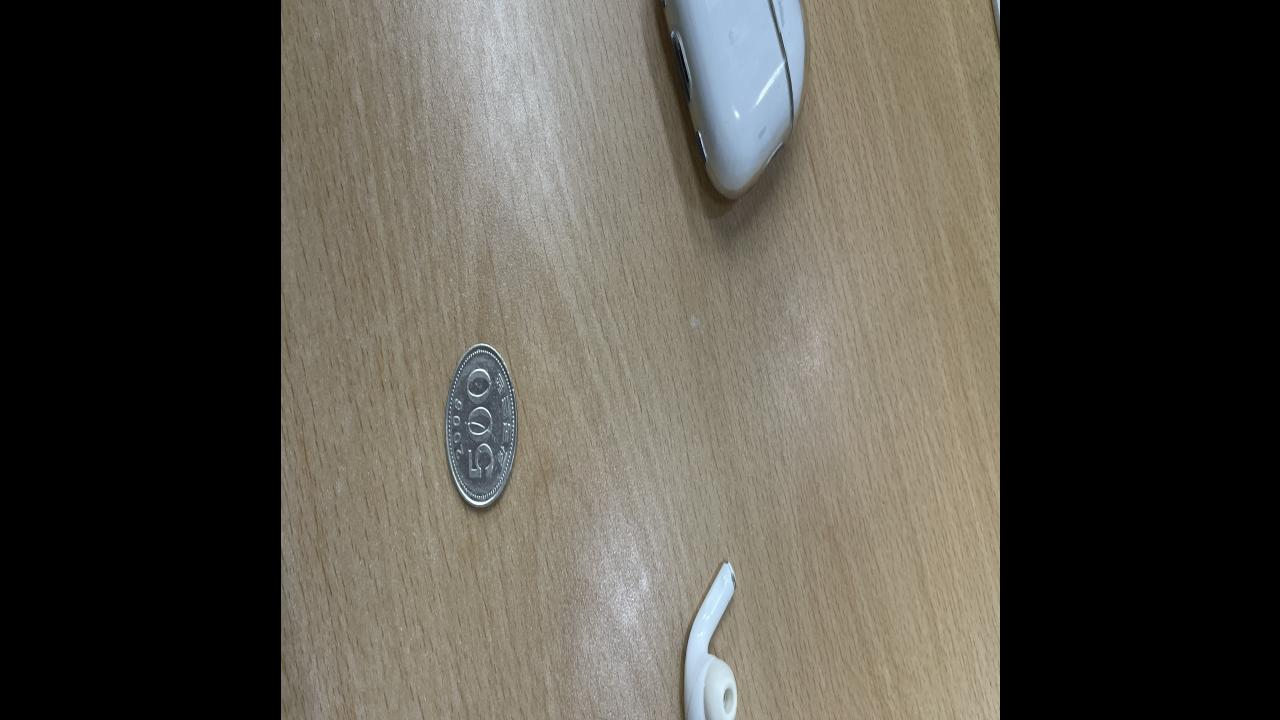coin: (443, 341, 514, 511)
